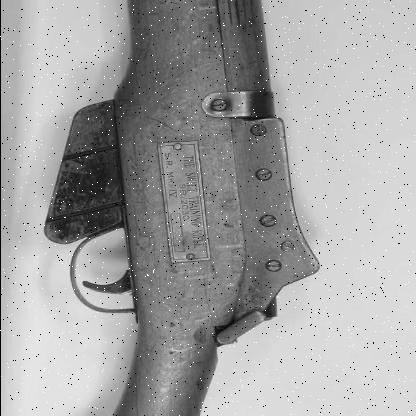rifle: (40, 0, 310, 397)
